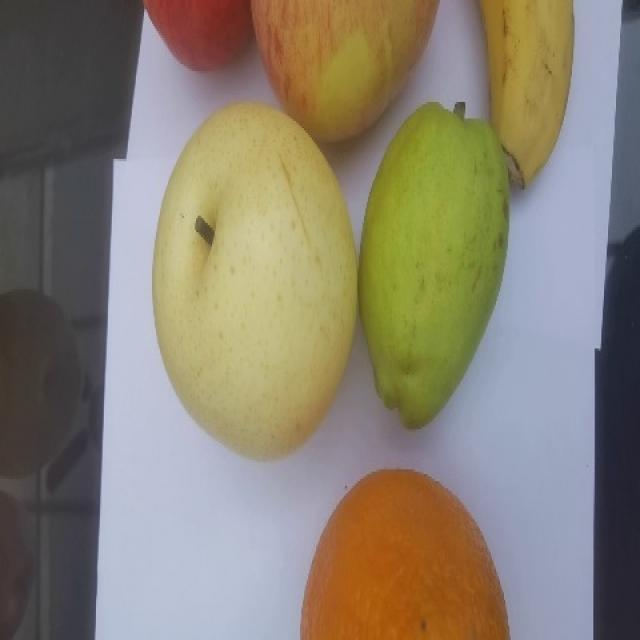Apple: (249, 0, 440, 144), (142, 0, 253, 71)
Banana: (476, 0, 575, 189)
Orange: (299, 467, 510, 639)
